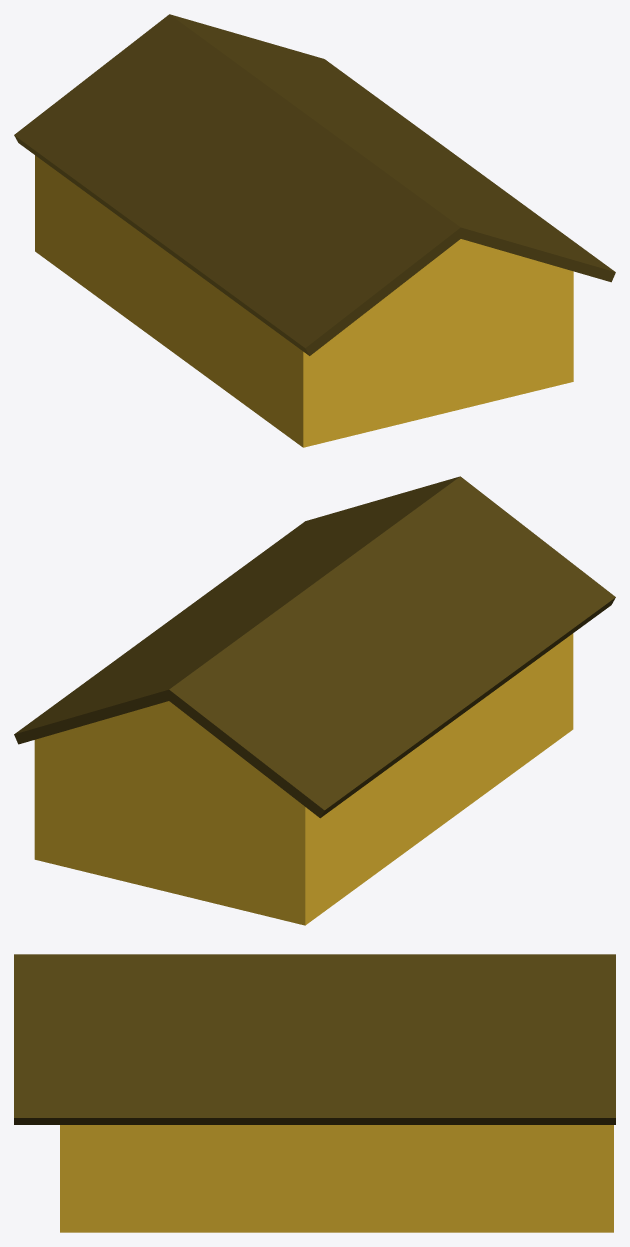
The model's file is result.dae.
3 views of the same model, one above another, from view 1: azimuth 30°, elevation 25°; view 2: azimuth 150°, elevation 25°; view 3: azimuth 270°, elevation 25° (orthographic). The views are drawn at different scales.
Visible parts, largest first — view 1: 6bea7e72-941d-4191-8d2b-f659565515d2__undefined (×5), 8fae4369-fbae-49ca-a903-15eae5a0c978__undefined (×2); view 2: 6bea7e72-941d-4191-8d2b-f659565515d2__undefined (×5), 8fae4369-fbae-49ca-a903-15eae5a0c978__undefined (×2); view 3: 6bea7e72-941d-4191-8d2b-f659565515d2__undefined (×2), 8fae4369-fbae-49ca-a903-15eae5a0c978__undefined.
Boxes of the visible parts, x1=… form: 6bea7e72-941d-4191-8d2b-f659565515d2__undefined (×5): x1=14, y1=14, x2=615, y2=355; 8fae4369-fbae-49ca-a903-15eae5a0c978__undefined (×2): x1=35, y1=155, x2=573, y2=447; 6bea7e72-941d-4191-8d2b-f659565515d2__undefined (×5): x1=14, y1=476, x2=615, y2=817; 8fae4369-fbae-49ca-a903-15eae5a0c978__undefined (×2): x1=34, y1=633, x2=573, y2=925; 6bea7e72-941d-4191-8d2b-f659565515d2__undefined (×2): x1=14, y1=954, x2=615, y2=1124; 8fae4369-fbae-49ca-a903-15eae5a0c978__undefined: x1=60, y1=1125, x2=613, y2=1232.
Bounding box in the file's own units: 803 × 503 × 1304.
